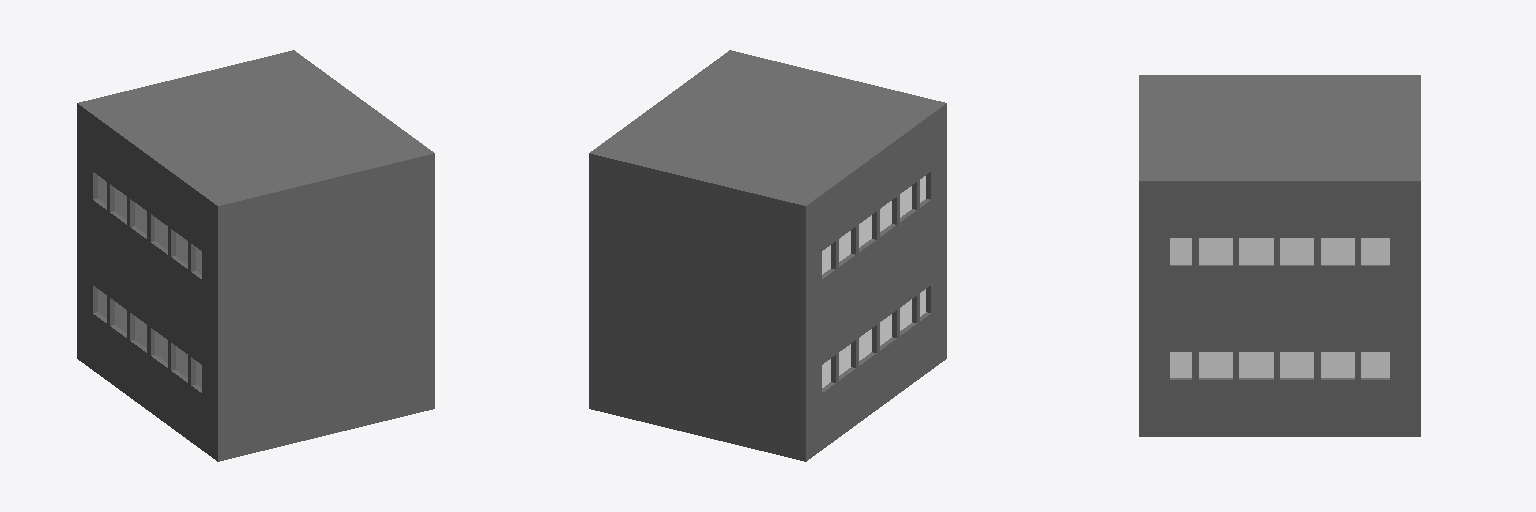
File: building.obj
3 renders of one model, left to right at view 1: azimuth 30°, elevation 25°; view 2: azimuth 150°, elevation 25°; view 3: azimuth 270°, elevation 25°, orthographic.
Visible parts, largest first — view 1: pCube3, pCube2, pCube4, pCube10, pCube12, pCube1, pCube13, pCube5, pCube11, pCube36; view 2: pCube4, pCube2, pCube3, pCube12, pCube10, pCube5, pCube11, pCube1, pCube13, pCube36; view 3: pCube2, pCube37, pCube4, pCube3, pCube6, pCube8, pCube1, pCube5, pCube9, pCube7.
Part boxes in pixels (x1,y1,x2,y2): pCube3: (202,142,434,461); pCube2: (86,56,426,227); pCube4: (77,50,305,369); pCube10: (93,312,209,424); pCube12: (86,199,209,310); pCube1: (88,342,209,455); pCube13: (93,144,209,255); pCube5: (93,229,209,338); pCube11: (93,257,209,369); pCube36: (98,176,201,387); pCube4: (589,142,821,461); pCube2: (597,56,938,228); pCube3: (718,50,946,369); pCube12: (814,195,938,313); pCube10: (814,308,938,426); pCube5: (814,223,938,341); pCube11: (814,251,938,369); pCube1: (814,337,938,455); pCube13: (814,138,938,255); pCube36: (822,176,925,387); pCube2: (1155,75,1404,209); pCube37: (1170,238,1389,377); pCube4: (1390,75,1420,436); pCube3: (1139,75,1169,436); pCube6: (1155,265,1404,294); pCube8: (1155,323,1404,351); pCube1: (1155,408,1404,436); pCube5: (1155,295,1404,322); pCube9: (1155,378,1404,407); pCube7: (1155,210,1404,237).
Size of the model in its own units: 8 by 9 by 9.